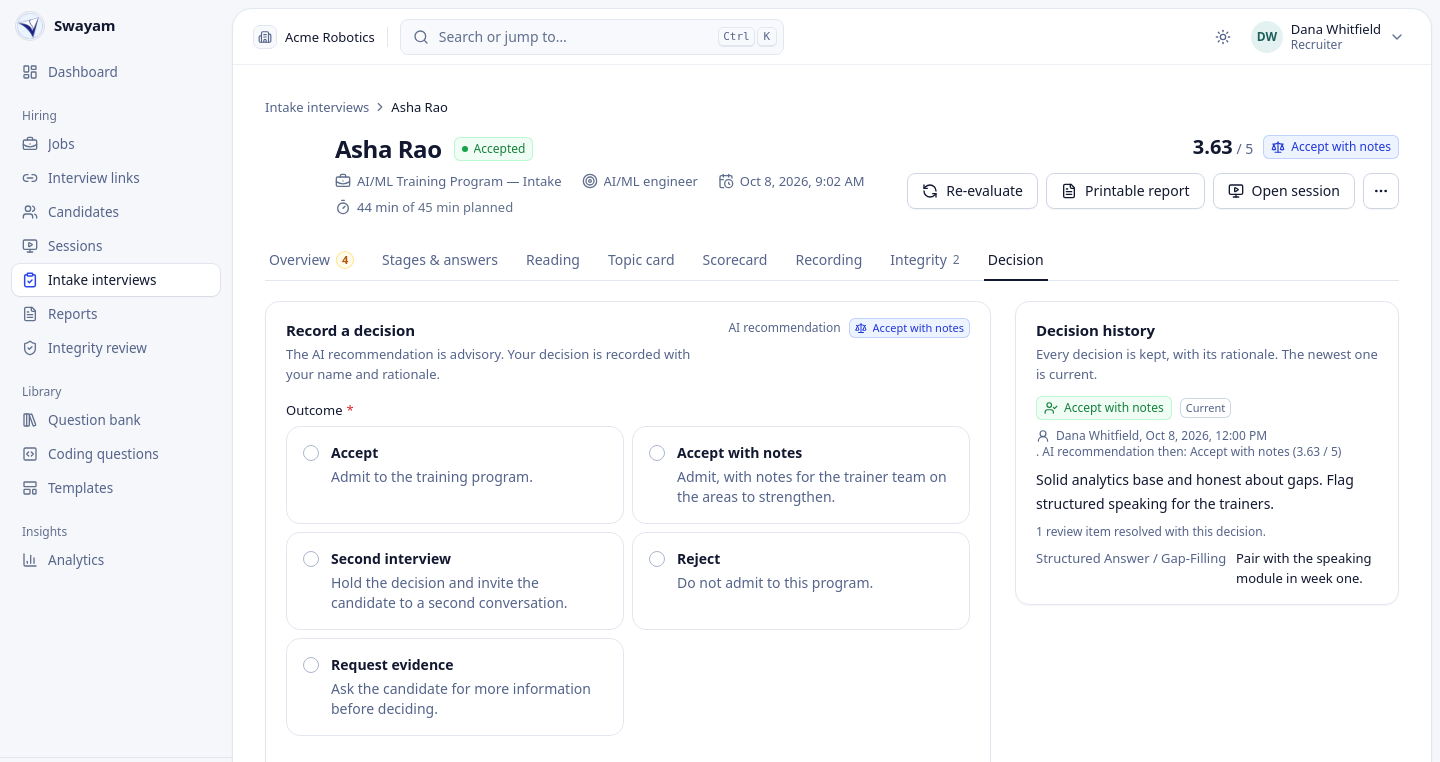
Test: intake review page › explains a running evaluation and shows the decision history
Expected: the element with test id "intake-decision-history" shows "Solid analytics base and honest about gaps.", top-left (1036, 470), bottom-right (1358, 513)
Click the radio button with test id "intake-decision-outcome-accept" at (455, 475), box top-left (286, 426), bottom-right (624, 524)
(page scrolled)
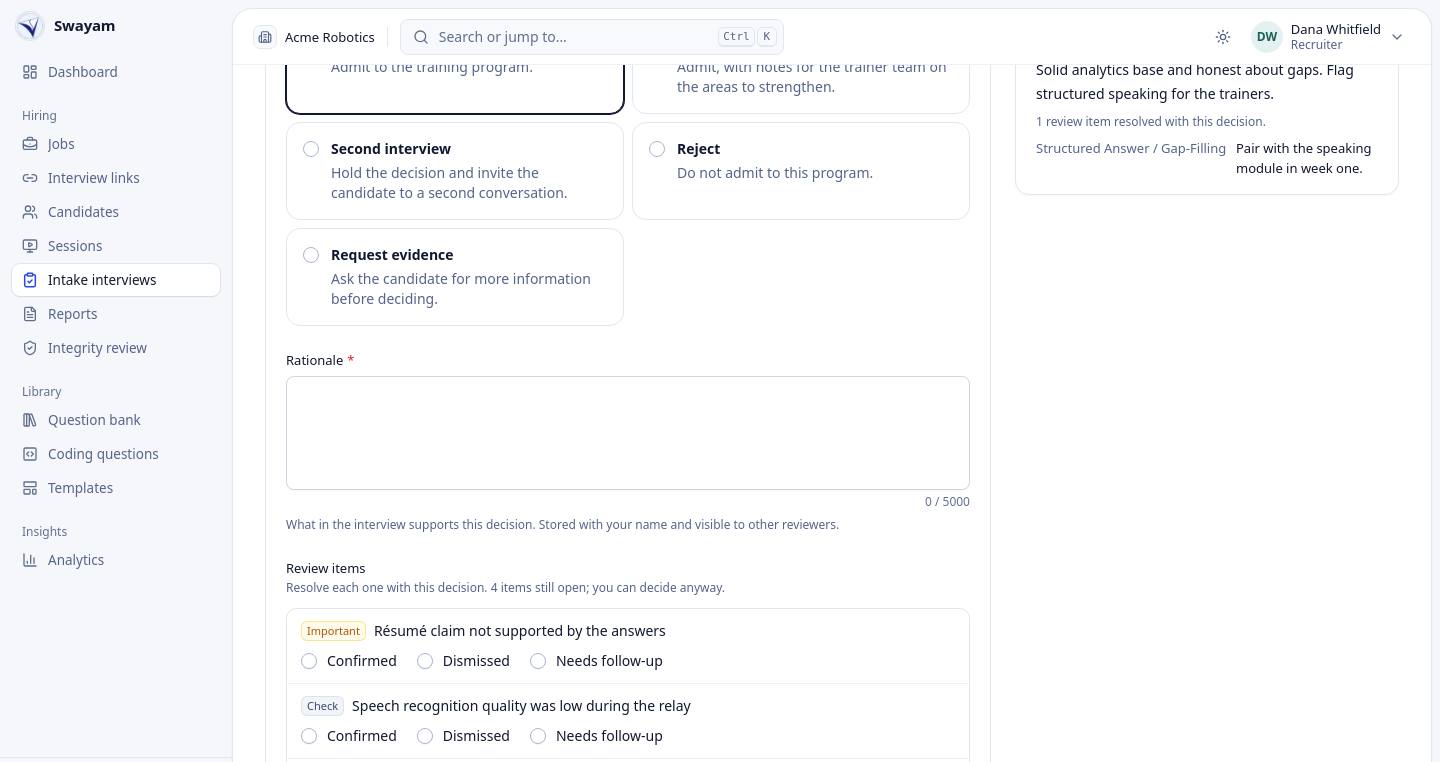
Type "Upgrading after the second look." into the text box with test id "intake-decision-rationale" at (628, 433), box top-left (286, 376), bottom-right (970, 490)
(page scrolled)
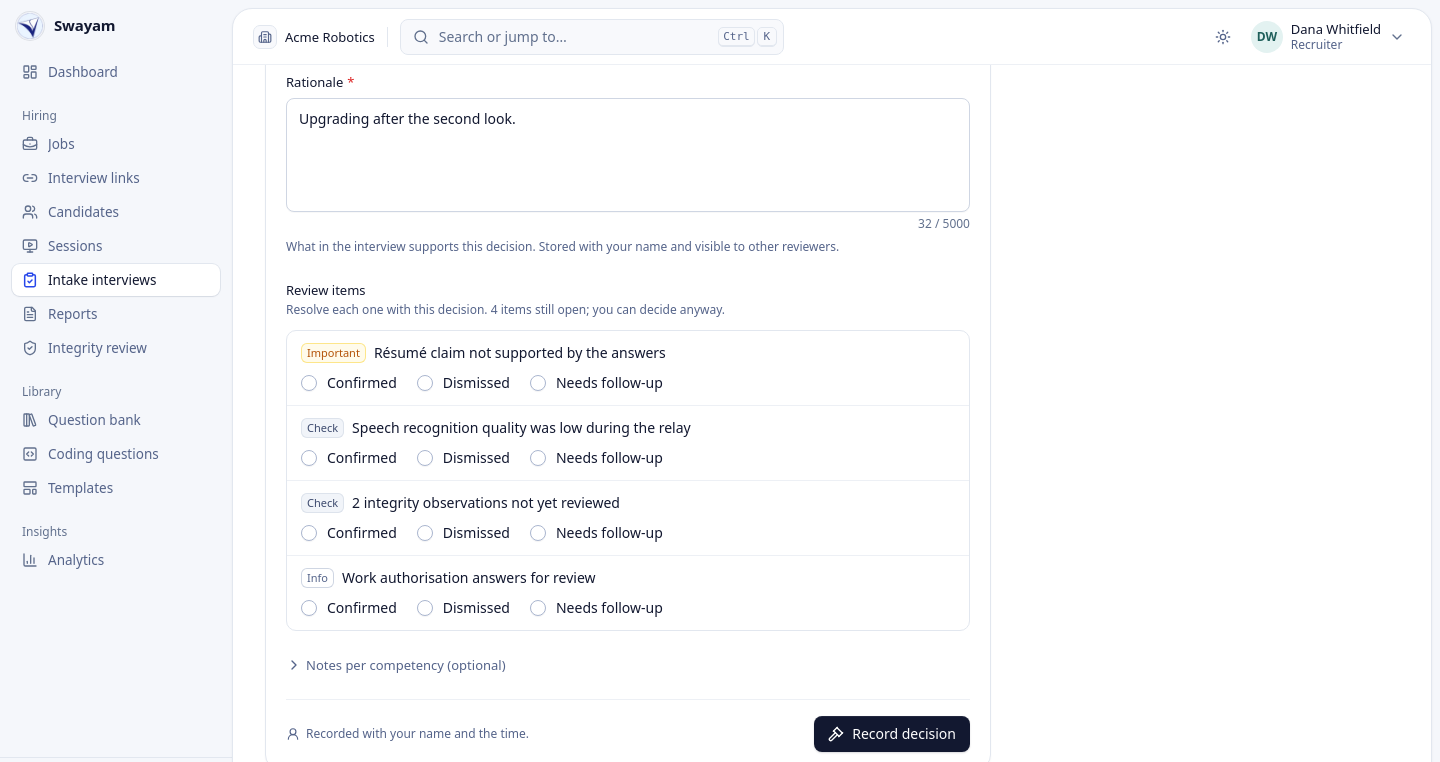
Click the button with test id "intake-decision-submit" at (892, 734), box top-left (814, 716), bottom-right (970, 752)
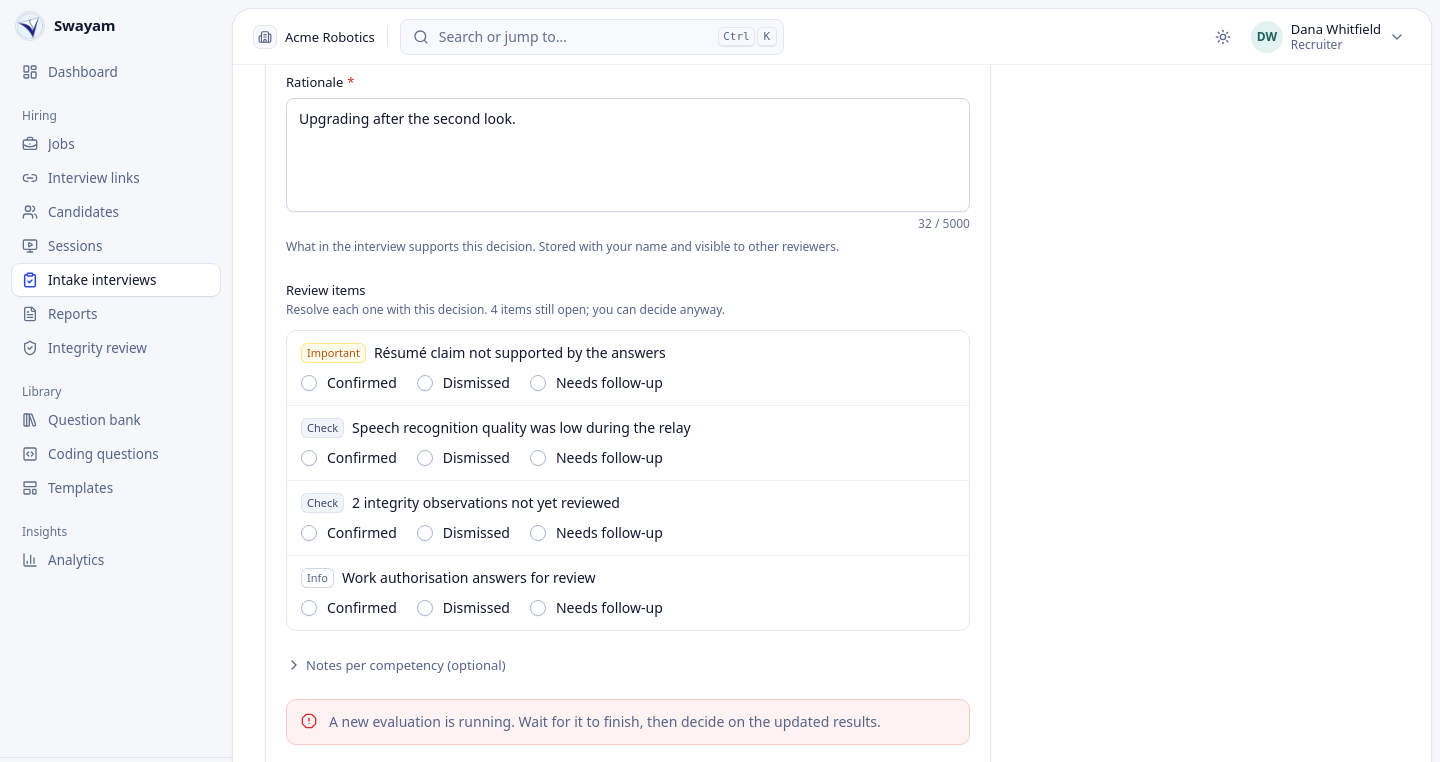
Expected: the text "A new evaluation is running" is shown, top-left (329, 712), bottom-right (881, 731)
